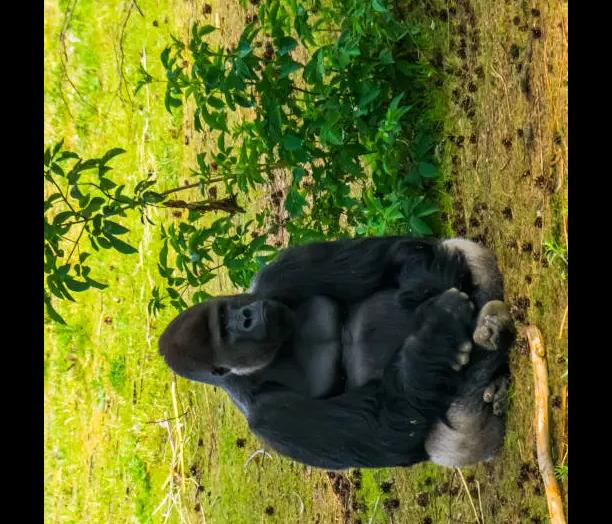gorille_Autres: (117, 196, 537, 472)
